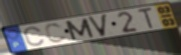2: (116, 11, 142, 35)
C: (44, 22, 68, 44), (23, 26, 47, 47)
M: (64, 17, 96, 42)
T: (136, 6, 156, 30)
V: (86, 13, 109, 38)
